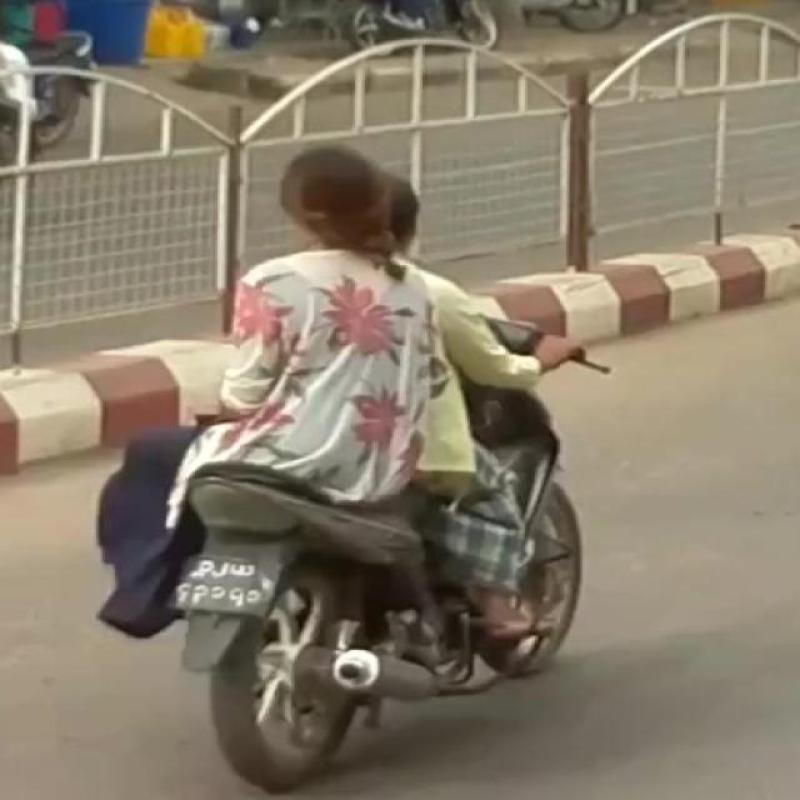nohelmet: (272, 114, 426, 301)
